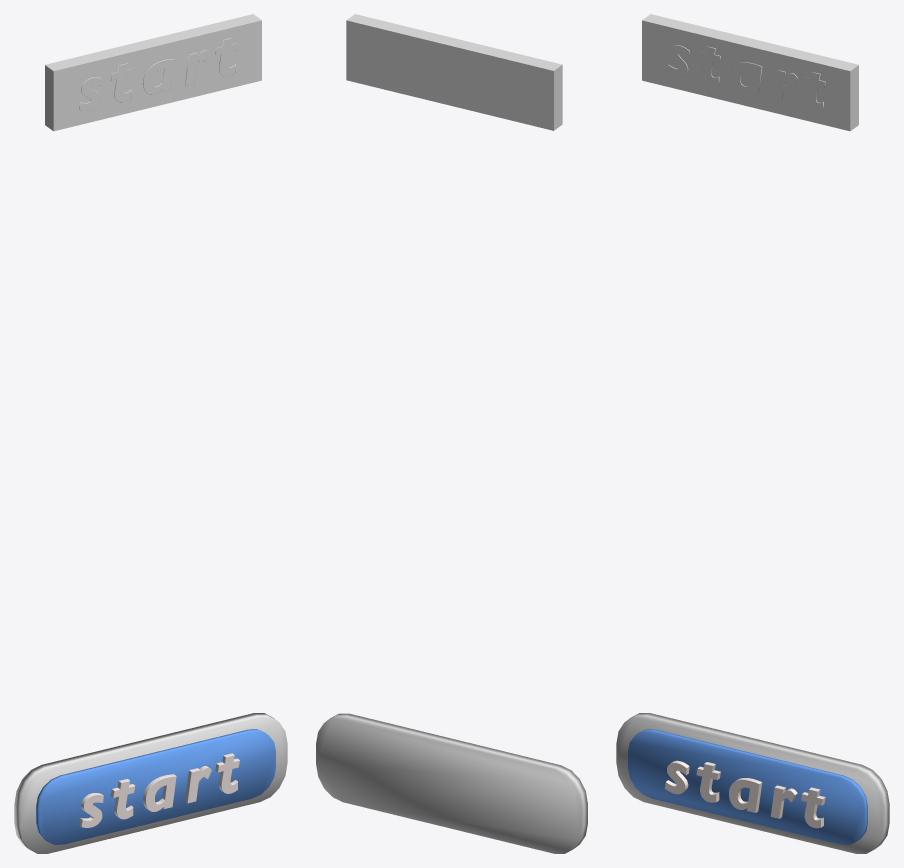
The model's file is start_button.glb.
3 views of the same model, side by side, from view 1: azimuth 30°, elevation 25°; view 2: azimuth 150°, elevation 25°; view 3: azimuth 330°, elevation 25° (orthographic).
Parts seen in each view (by area): view 1: Cube.002, Cube.001, Cube, Text, Text.001; view 2: Cube, Cube.001; view 3: Cube.002, Cube.001, Cube, Text, Text.001.
Part boxes in pixels (x1,y1,x2,y2): Cube.002: (36, 729, 275, 844); Cube.001: (45, 14, 261, 131); Cube: (14, 713, 287, 853); Text: (79, 753, 239, 827); Text.001: (79, 38, 237, 110); Cube: (316, 713, 587, 853); Cube.001: (346, 14, 562, 130); Cube.002: (628, 729, 867, 844); Cube.001: (642, 14, 858, 131); Cube: (616, 713, 889, 853); Text: (664, 760, 825, 828); Text.001: (667, 45, 825, 110).
Bounding box in the file's own units: 17.27 × 48.55 × 1.42.
